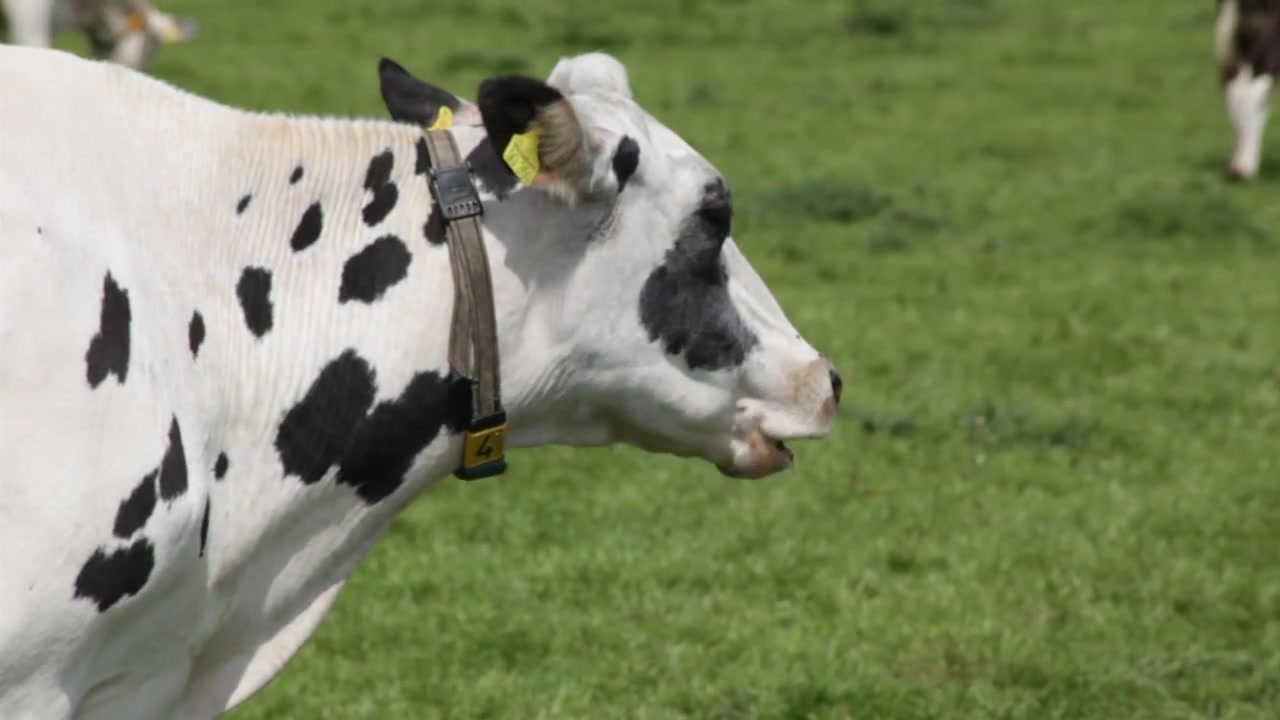cow: (1, 44, 850, 720)
